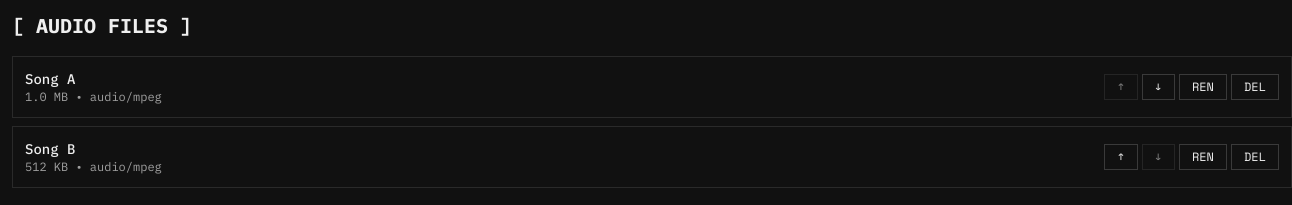
Test: AudioManager › renames audio on OK click
The width and height of the screenshot is (1292, 205).
Expected: the text "Song A" is shown, [25,70,75,88]
Click the button "REN" in the row of "Song A": (1203, 87) [1179,74,1227,100]
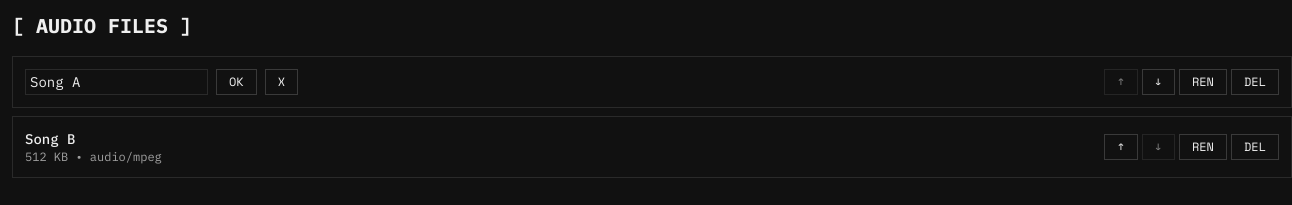
Replace the text in the field named "new title" with "Renamed": (116, 82) [25,69,208,95]
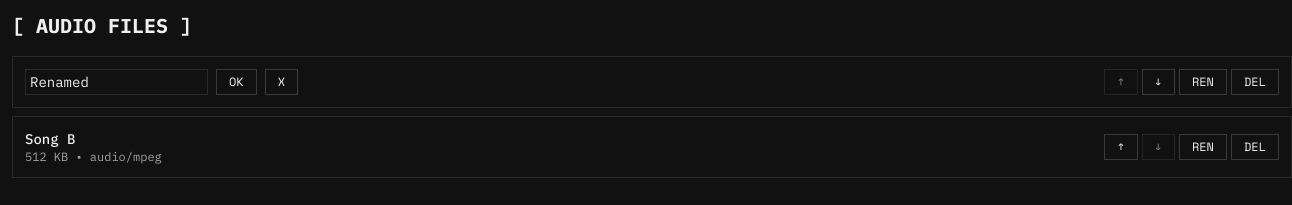
Click the button "OK": (236, 82) [216,69,257,95]
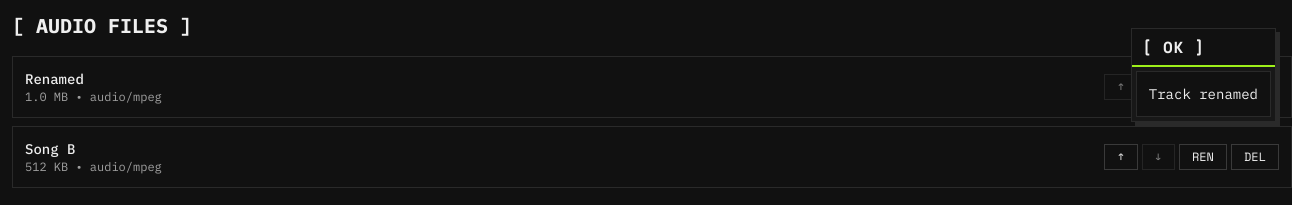
Now the text "Renamed" is shown, box [25,70,84,88]
